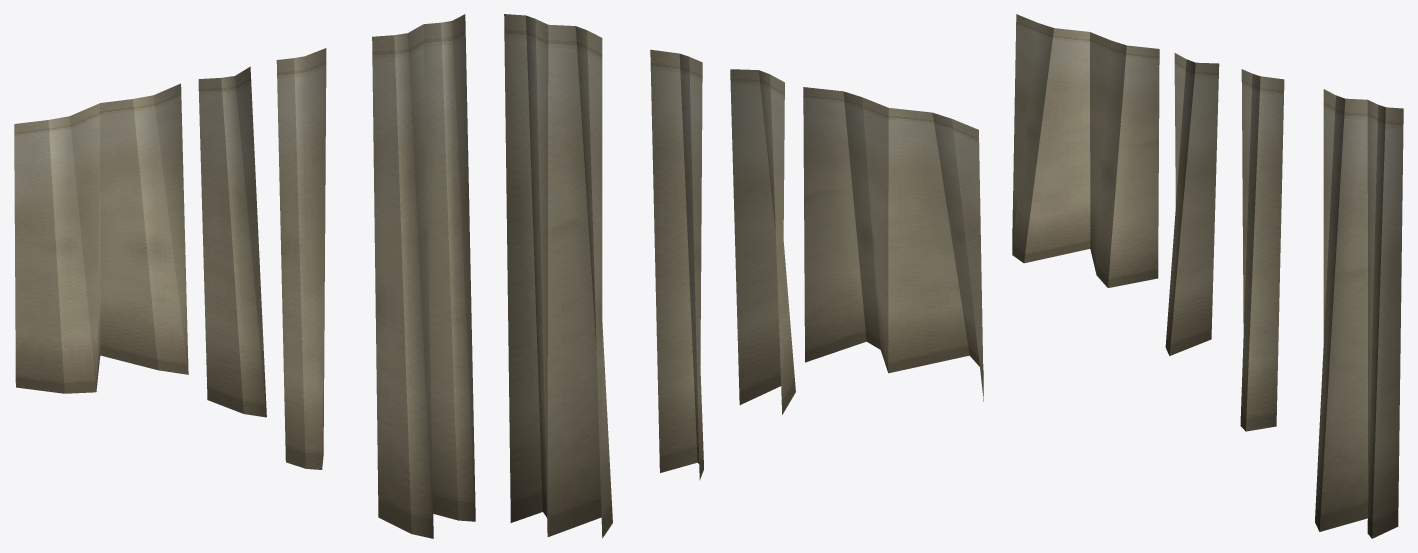
The model's file is prop_curtain-torn-3.glb.
3 renders of one model, left to right at view 1: azimuth 30°, elevation 25°; view 2: azimuth 150°, elevation 25°; view 3: azimuth 330°, elevation 25°, orthographic. The views are drawn at different scales.
Parts seen in each view (by area): view 1: prop_curtain-torn-3; view 2: prop_curtain-torn-3; view 3: prop_curtain-torn-3.
Part boxes in pixels (box(x1,y1,x2,y2)): prop_curtain-torn-3: box(14, 14, 475, 538); prop_curtain-torn-3: box(504, 14, 983, 538); prop_curtain-torn-3: box(1012, 14, 1403, 538).
Bounding box in the file's own units: 1.73 × 1.79 × 0.2466.
1 material, 1 textured.
